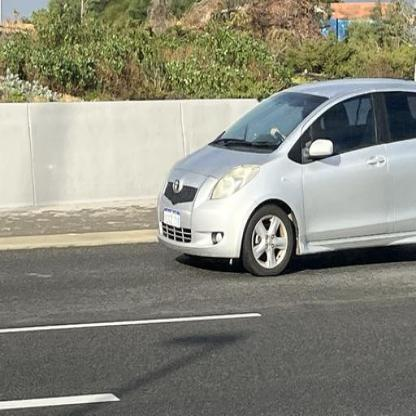Tire: (241, 204, 293, 277)
